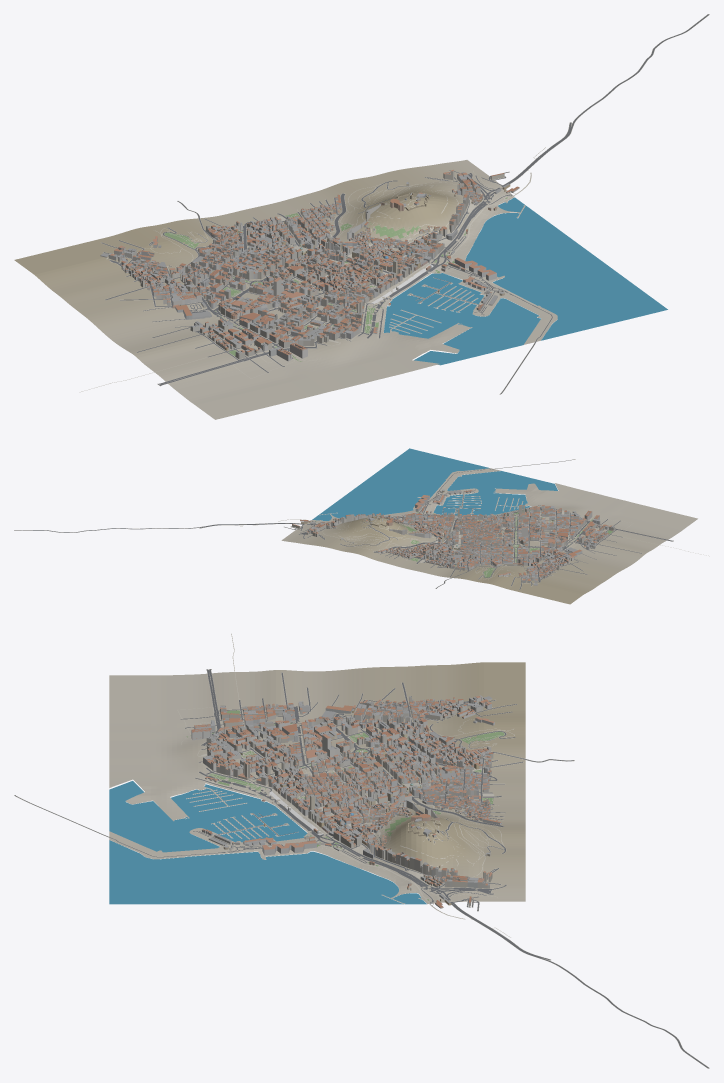
Rendered from alicante.glb.
3 views of the same model, one above another, from view 1: azimuth 30°, elevation 25°; view 2: azimuth 150°, elevation 25°; view 3: azimuth 270°, elevation 25° (orthographic). The views are drawn at different scales.
Parts seen in each view (by area): view 1: Ground, Walls, Water, Roofs, Sidewalk, Road, Park; view 2: Ground, Walls, Water, Roofs, Sidewalk, Road, Park; view 3: Ground, Walls, Water, Roofs, Sidewalk, Road, Park.
Boxes of the visible parts, <box> form: Ground: <box>14,160,557,419</box>; Walls: <box>100,171,519,361</box>; Water: <box>384,197,667,365</box>; Roofs: <box>101,169,519,354</box>; Sidewalk: <box>79,14,709,394</box>; Road: <box>101,14,709,394</box>; Park: <box>164,197,507,361</box>; Ground: <box>281,468,697,604</box>; Walls: <box>292,490,614,585</box>; Water: <box>312,448,557,520</box>; Roofs: <box>292,489,614,584</box>; Sidewalk: <box>14,459,709,588</box>; Road: <box>14,459,673,589</box>; Park: <box>315,510,612,577</box>; Ground: <box>109,662,525,904</box>; Walls: <box>191,696,501,908</box>; Water: <box>109,781,426,904</box>; Roofs: <box>191,695,500,907</box>; Sidewalk: <box>14,633,709,1068</box>; Road: <box>14,669,709,1068</box>; Park: <box>186,710,504,900</box>.
Bounding box in the file's own units: 4940 × 159 × 3344.
